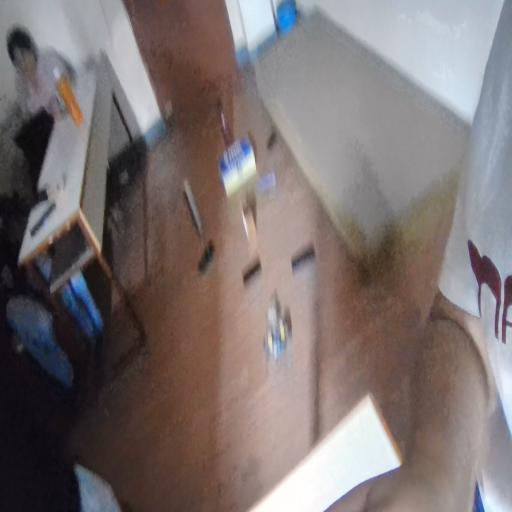car: (256, 307, 308, 362)
